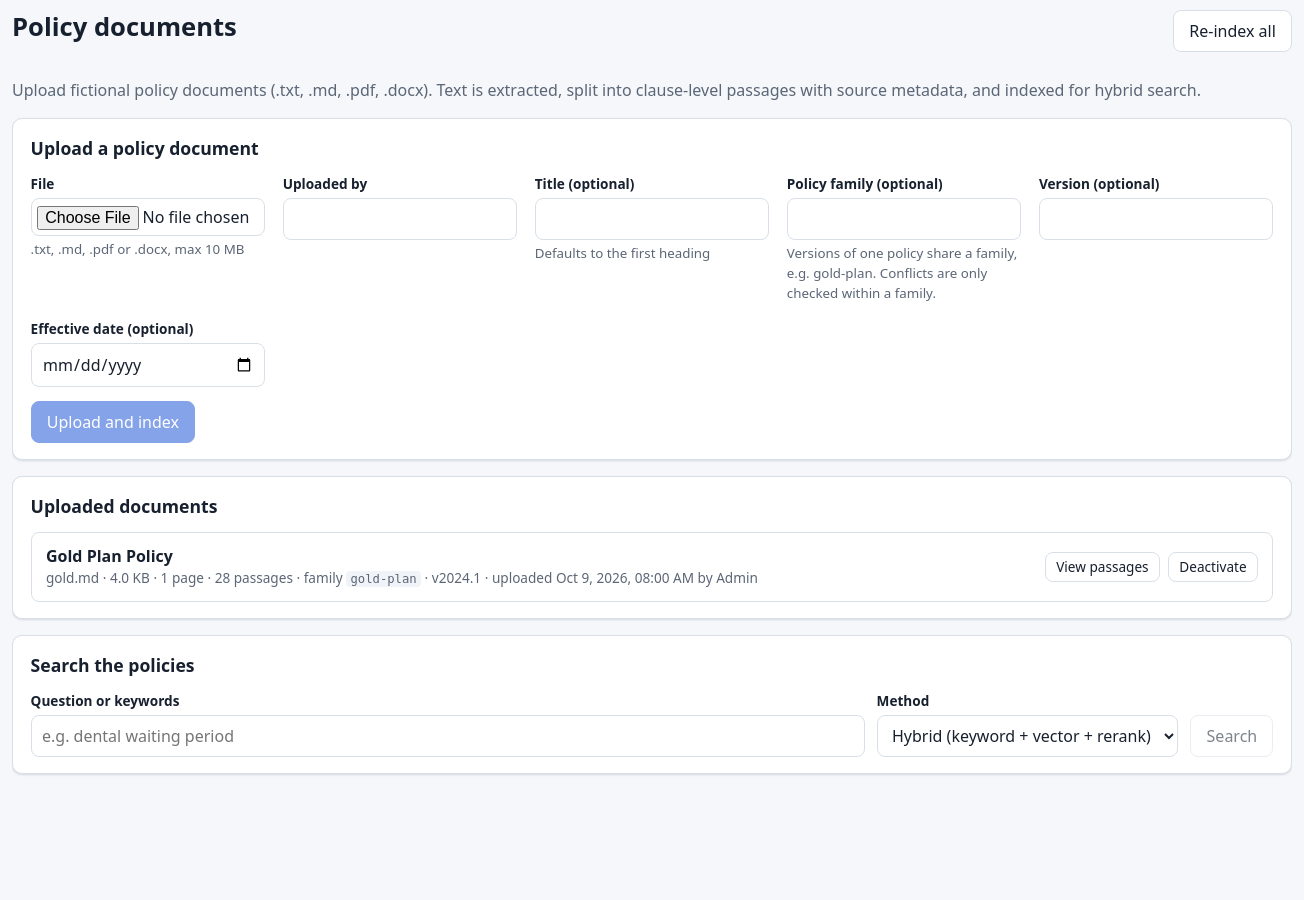
Test: PoliciesPage › lists documents with their metadata and can show the extracted passages
Expected: the text "Gold Plan Policy" is shown, [46, 545, 173, 567]
Expected: the text "28 passages" is shown, [46, 568, 758, 587]
Click the button "View passages" at (1102, 567), box [1045, 552, 1160, 582]
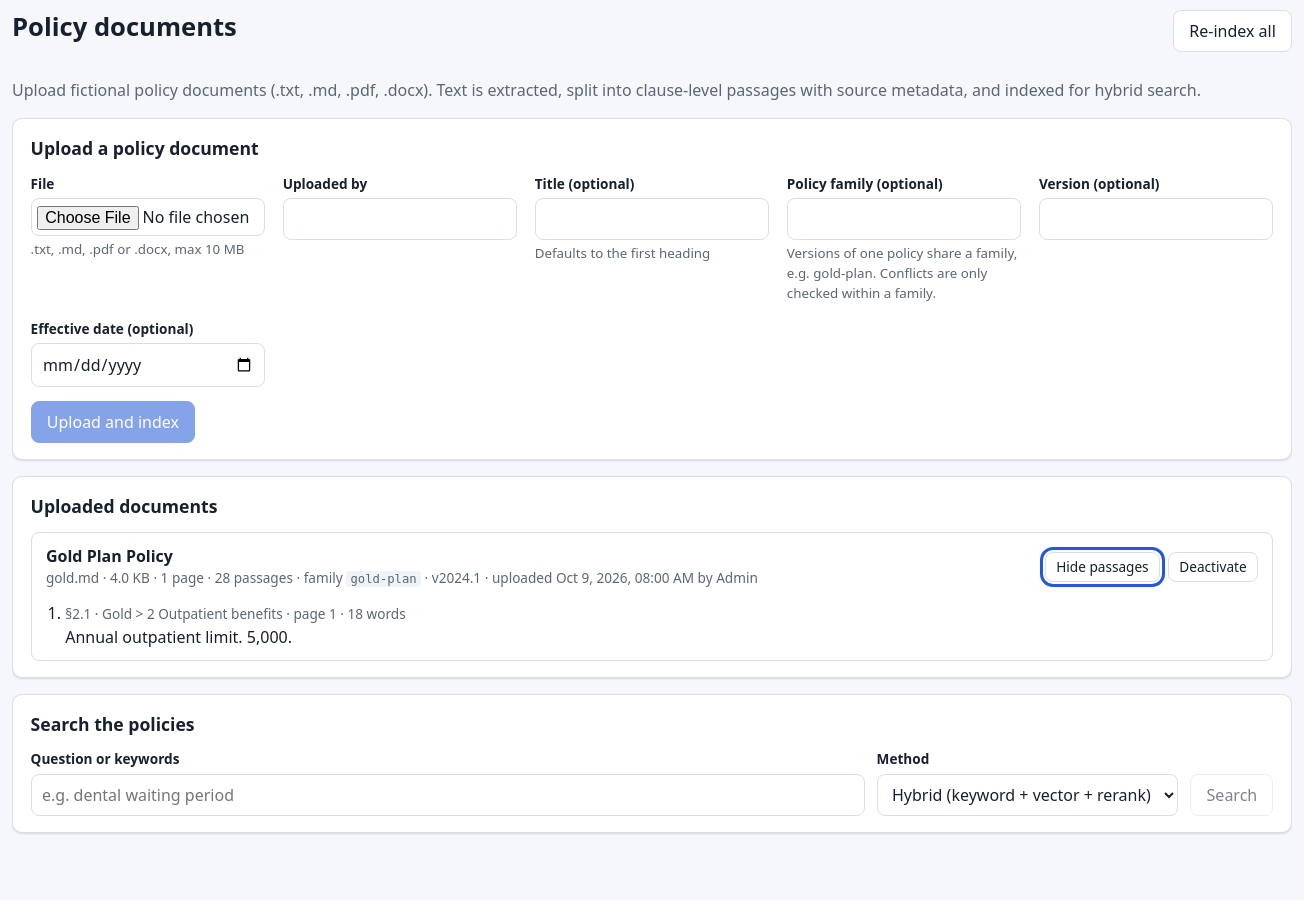
Expected: the text "§2.1 · Gold > 2 Outpatient benefits · page 1 · 18 words" is shown, [65, 604, 406, 624]
